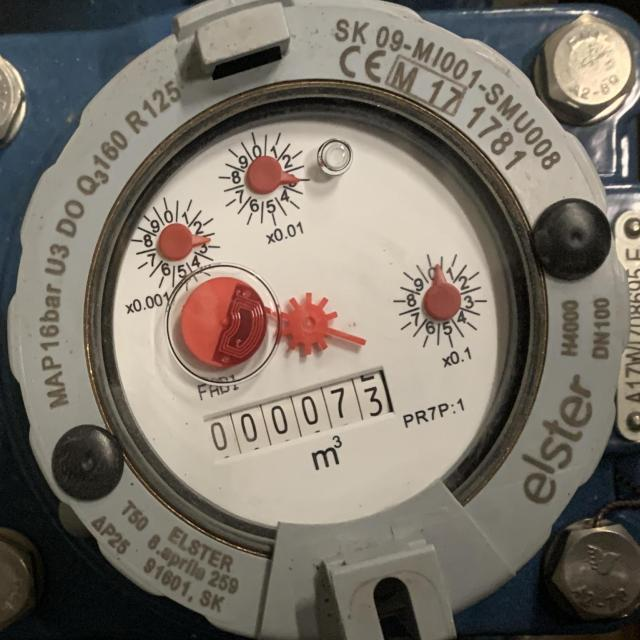gaz_meter: (88, 78, 544, 555)
indication: (199, 364, 396, 464)
